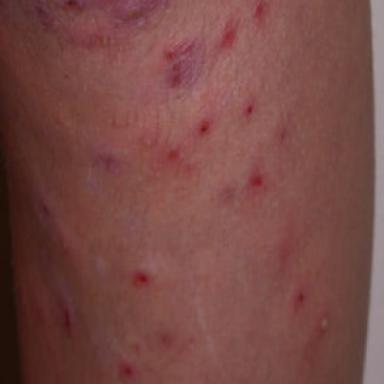acne: (161, 38, 197, 87), (121, 0, 147, 21), (221, 20, 238, 48), (132, 268, 151, 288), (253, 1, 266, 25), (196, 118, 211, 135), (119, 362, 134, 377), (319, 312, 331, 330), (39, 197, 50, 216), (250, 173, 263, 187), (243, 100, 254, 116), (65, 307, 71, 330), (167, 150, 179, 159), (298, 292, 304, 302)
